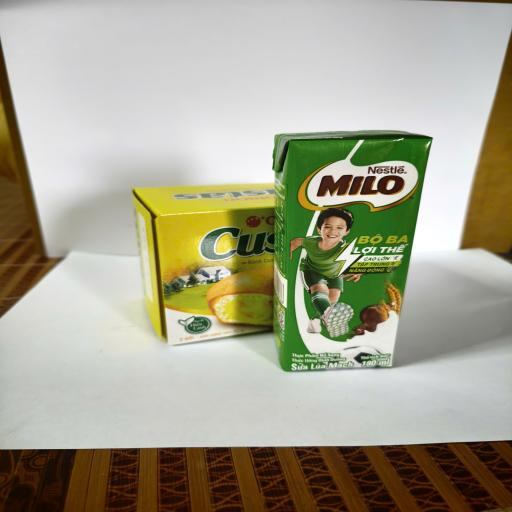custas: (132, 182, 275, 346)
milo: (272, 130, 433, 372)
